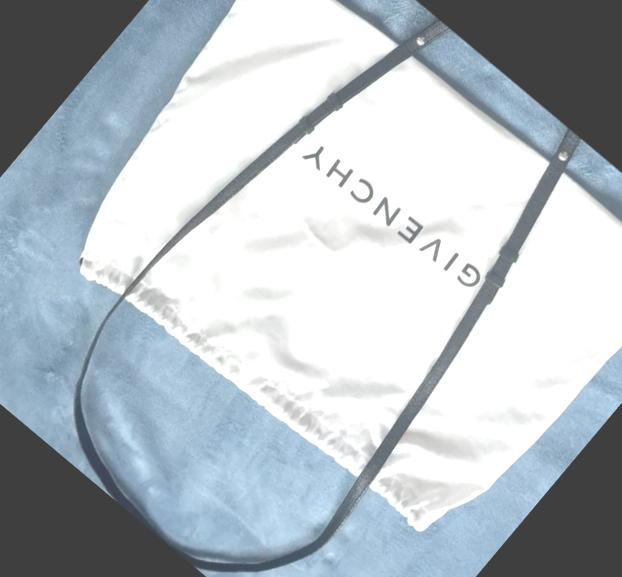GIVENCHY: (289, 122, 494, 305)
